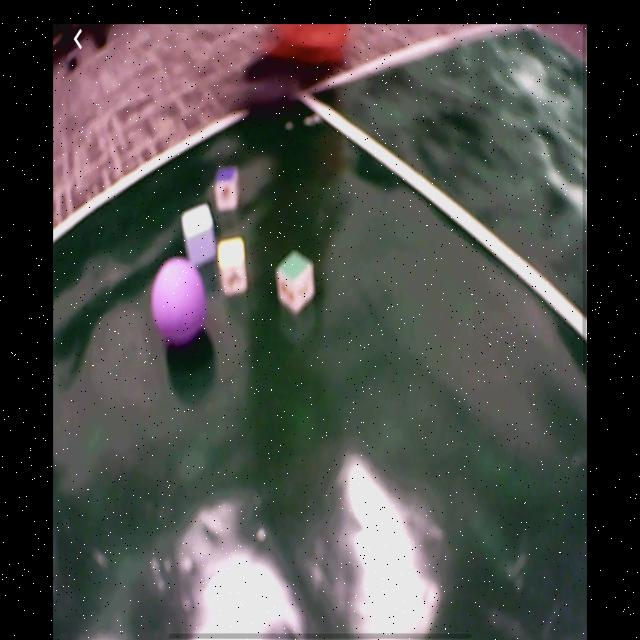ball: (152, 257, 207, 347)
